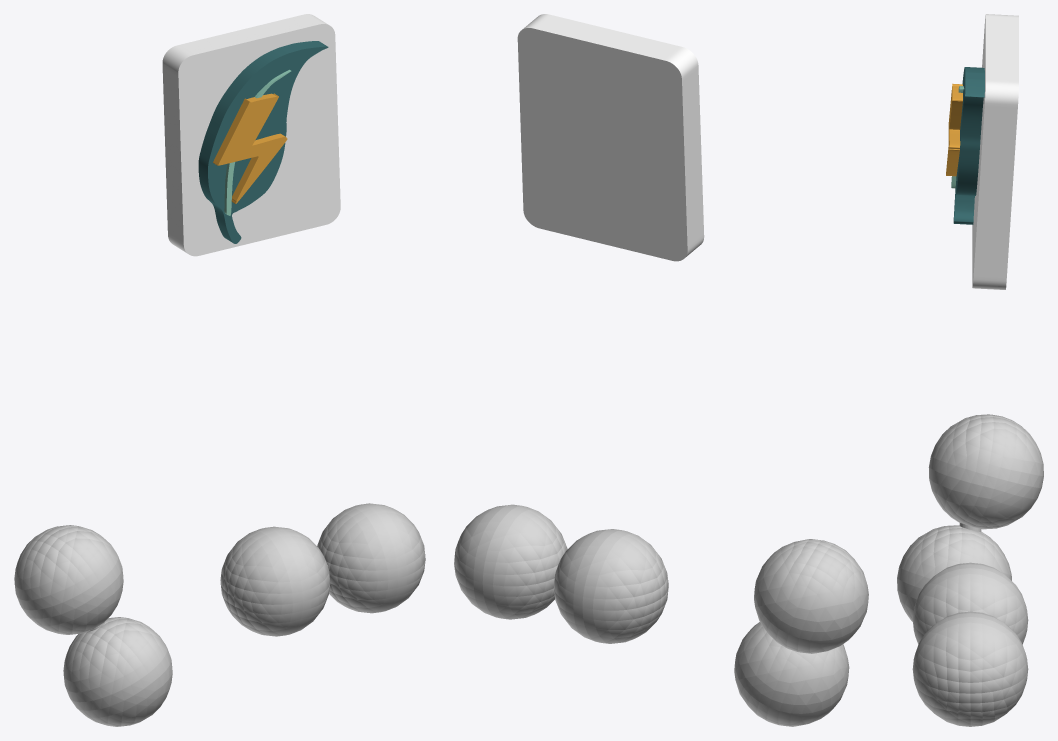
3 views of the same model, side by side, from view 1: azimuth 30°, elevation 25°; view 2: azimuth 150°, elevation 25°; view 3: azimuth 270°, elevation 25° (orthographic). The views are drawn at different scales.
Parts seen in each view (by area): view 1: path182, Cylinder.001, Cylinder, path184, path188; view 2: path182, Cylinder, Cylinder.001; view 3: Cylinder, Cylinder.001, path182, path184, path188.
Boxes of the visible parts, x1,y1,x2,y2 form: path182: (162, 14, 340, 256); Cylinder.001: (14, 525, 172, 726); Cylinder: (220, 503, 425, 636); path184: (198, 41, 328, 243); path188: (213, 93, 287, 203); path182: (517, 14, 704, 261); Cylinder: (454, 504, 668, 643); Cylinder.001: (734, 539, 868, 726); Cylinder: (912, 562, 1028, 726); Cylinder.001: (897, 414, 1043, 621); path182: (972, 14, 1018, 289); path184: (953, 67, 984, 224); path188: (946, 83, 962, 176).
Bounding box in the file's own units: 3.54 × 5.5 × 1.1.
